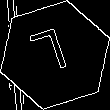L_S: (32, 26, 78, 84)
